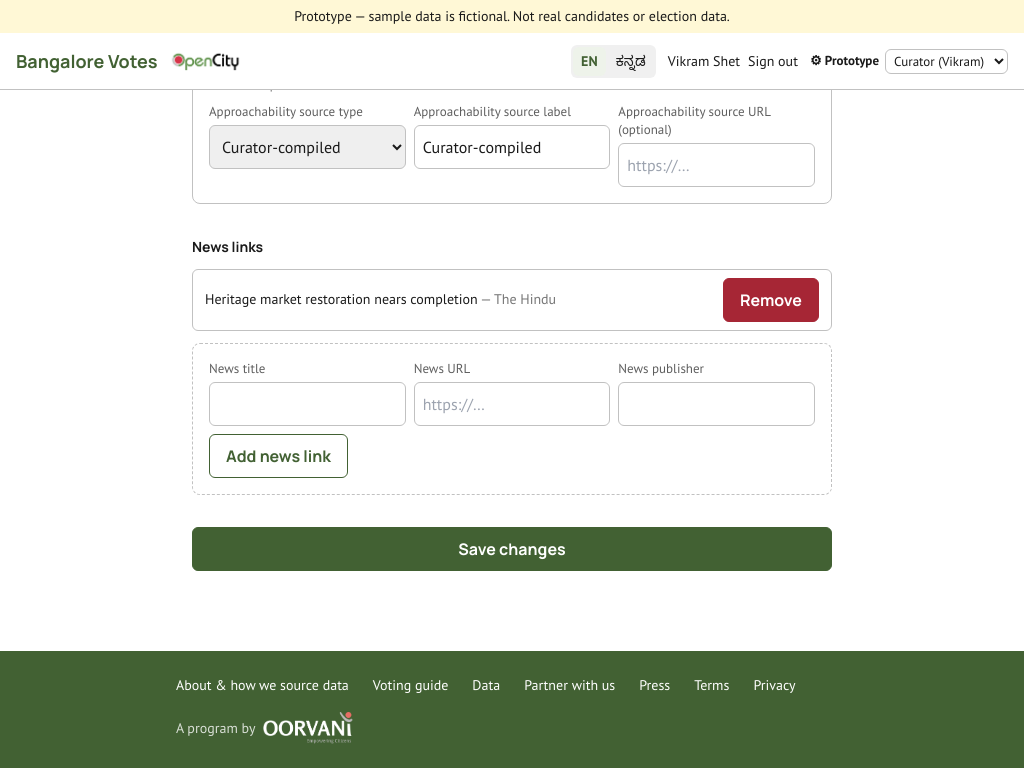
Test: curator cannot save a candidate outside their ward scope — store error surfaces inline, no crash
(page scrolled)
Click the button "Save changes" at (512, 549), box left=192, top=527, right=832, bottom=571
(page scrolled)
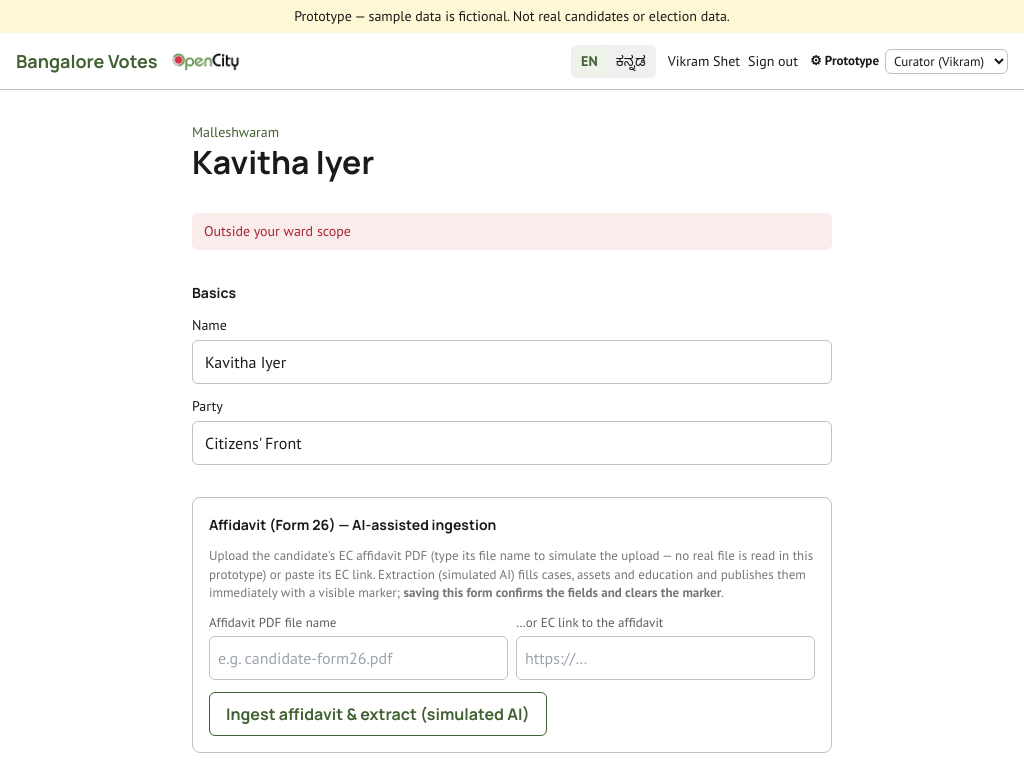
expect the message shows "scope": met, box left=204, top=222, right=351, bottom=240
